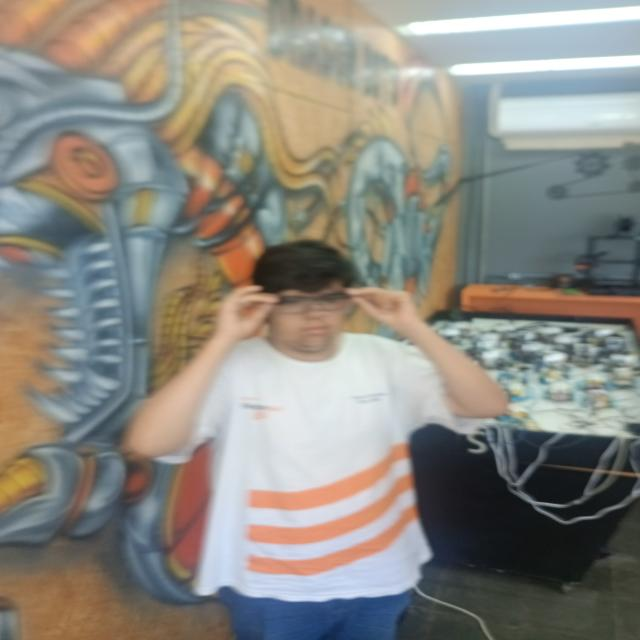oculos-epi: (276, 292, 350, 315)
